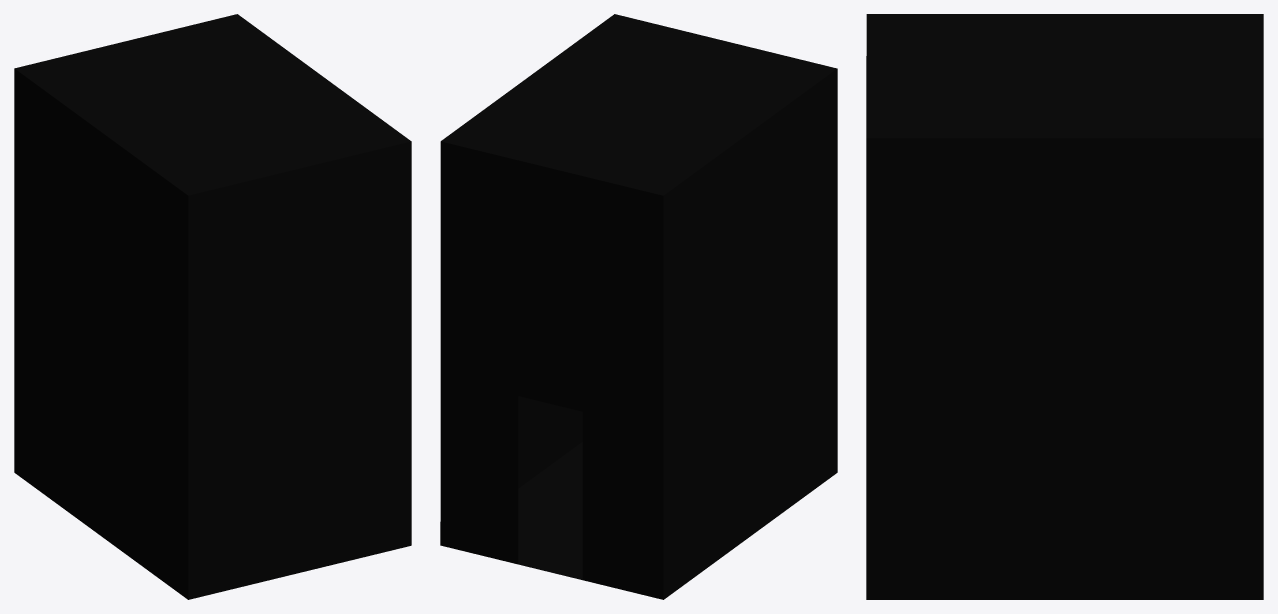
Rendered from Worker Room1.fbx.
3 views of the same model, side by side, from view 1: azimuth 30°, elevation 25°; view 2: azimuth 150°, elevation 25°; view 3: azimuth 270°, elevation 25° (orthographic). The views are drawn at different scales.
Visible parts, largest first — view 1: Worker Room 1_Baked, Worler room.root_Baked; view 2: Worker Room 1_Baked, Worler room.root_Baked, Floor.010_Baked; view 3: Worker Room 1_Baked, Worler room.root_Baked.
Boxes of the visible parts, box(x1,y1,x2,y2) form: Worker Room 1_Baked: box(14, 68, 411, 599); Worler room.root_Baked: box(14, 14, 411, 195); Worker Room 1_Baked: box(440, 68, 837, 599); Worler room.root_Baked: box(441, 14, 836, 195); Floor.010_Baked: box(518, 442, 582, 579); Worker Room 1_Baked: box(866, 138, 1263, 599); Worler room.root_Baked: box(866, 14, 1263, 138).
Size of the model in its own units: 277 by 480 by 375.
